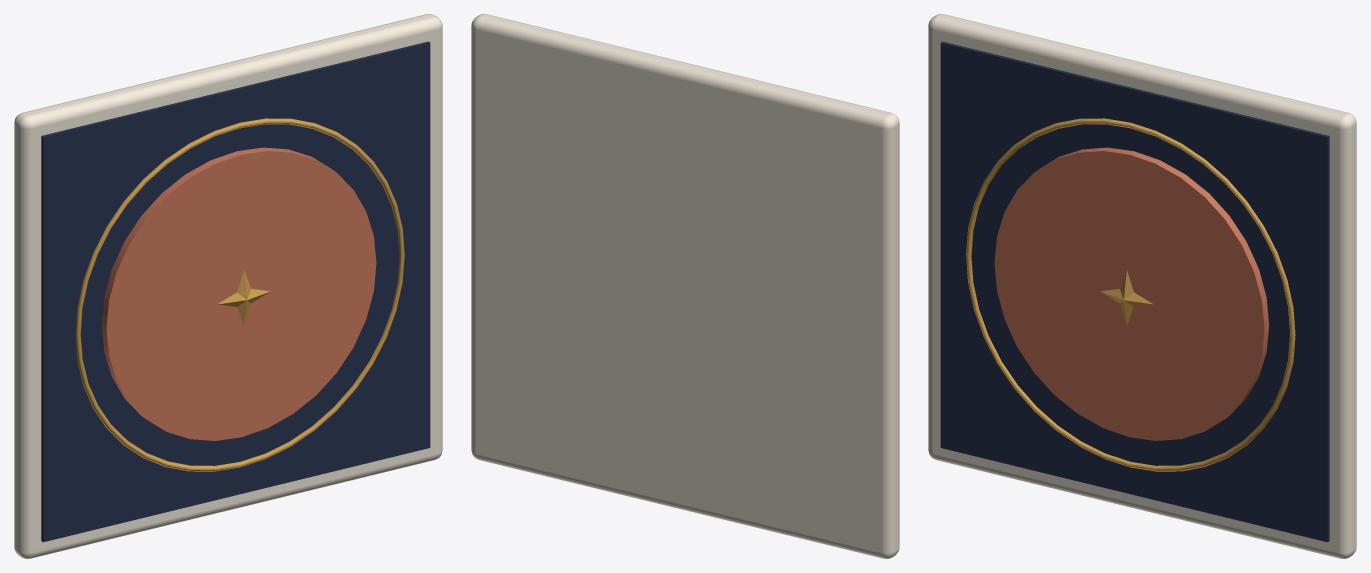
File: art-intake-sundisc.glb
3 renders of one model, left to right at view 1: azimuth 30°, elevation 25°; view 2: azimuth 150°, elevation 25°; view 3: azimuth 330°, elevation 25°, orthographic.
Parts seen in each view (by area): view 1: art-intake-sundisc_m_26344f, art-intake-sundisc_m_c9785c, art-intake-sundisc_m_efe7d8, art-intake-sundisc_m_cfa04e; view 2: art-intake-sundisc_m_efe7d8; view 3: art-intake-sundisc_m_26344f, art-intake-sundisc_m_c9785c, art-intake-sundisc_m_efe7d8, art-intake-sundisc_m_cfa04e.
Part boxes in pixels (box(x1,y1,x2,y2)): art-intake-sundisc_m_26344f: box(41, 41, 430, 542); art-intake-sundisc_m_c9785c: box(101, 147, 376, 440); art-intake-sundisc_m_efe7d8: box(14, 14, 442, 558); art-intake-sundisc_m_cfa04e: box(75, 118, 404, 471); art-intake-sundisc_m_efe7d8: box(471, 14, 899, 558); art-intake-sundisc_m_26344f: box(940, 41, 1329, 542); art-intake-sundisc_m_c9785c: box(994, 147, 1269, 440); art-intake-sundisc_m_efe7d8: box(928, 14, 1356, 558); art-intake-sundisc_m_cfa04e: box(966, 118, 1295, 471).
Size of the model in its own units: 0.94 by 0.94 by 0.097.
